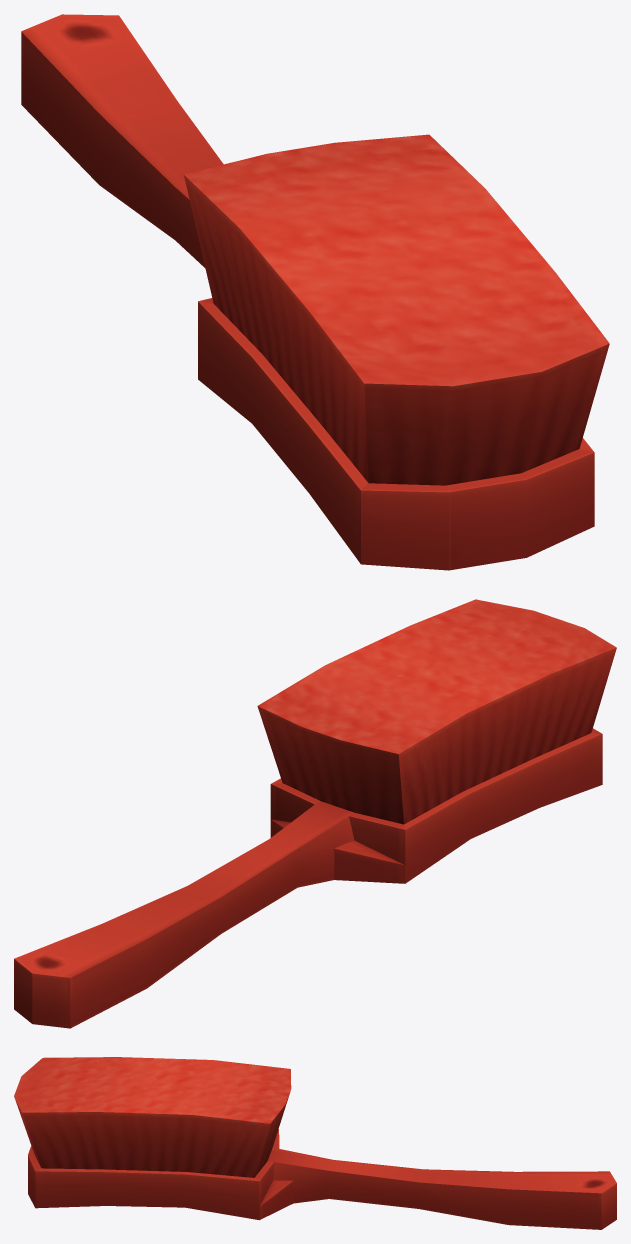
The model's file is CeSuo_01_shuazi_01.FBX.
3 views of the same model, one above another, from view 1: azimuth 30°, elevation 25°; view 2: azimuth 150°, elevation 25°; view 3: azimuth 270°, elevation 25° (orthographic). The views are drawn at different scales.
Parts seen in each view (by area): view 1: CeSuo_01_chuangshua_01; view 2: CeSuo_01_chuangshua_01; view 3: CeSuo_01_chuangshua_01.
Part boxes in pixels (left/top/right/bottom): CeSuo_01_chuangshua_01: left=21, top=14, right=609, bottom=570; CeSuo_01_chuangshua_01: left=14, top=599, right=616, bottom=1028; CeSuo_01_chuangshua_01: left=14, top=1057, right=616, bottom=1229.
Size of the model in its own units: 44.36 by 29.44 by 148.
